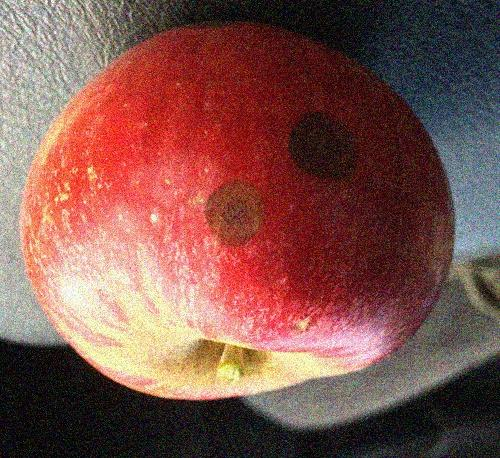rotten apple: (20, 21, 456, 399)
